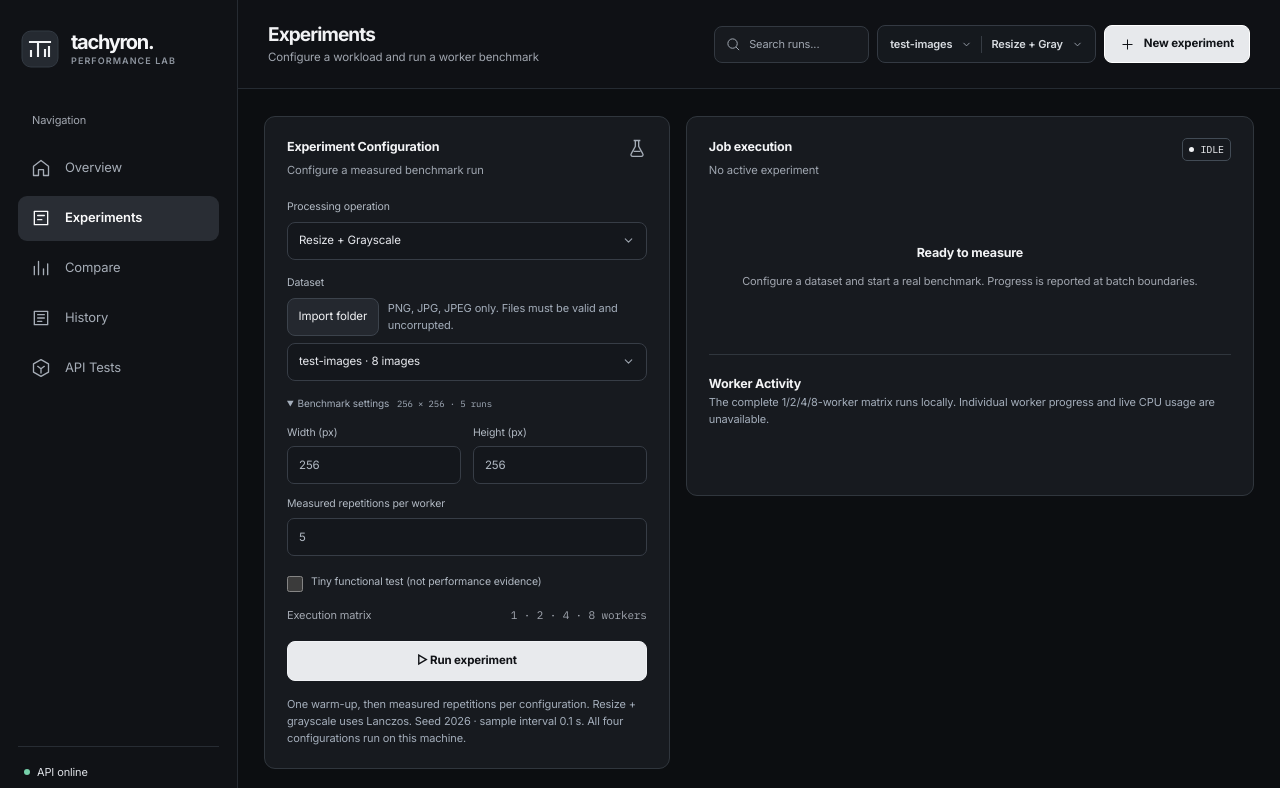
Scenario: keeps the footer minimal through offline and online transitions without stale secondary information
The width and height of the screenshot is (1280, 788).
Expected: the text "API online" is shown, left=37, top=764, right=88, bottom=780
Expected: the dropdown named "Dataset" holds "test-images", left=287, top=343, right=647, bottom=381
Click the button with aria-label "Recheck API connection".
click(56, 772)  # box left=24, top=764, right=88, bottom=780
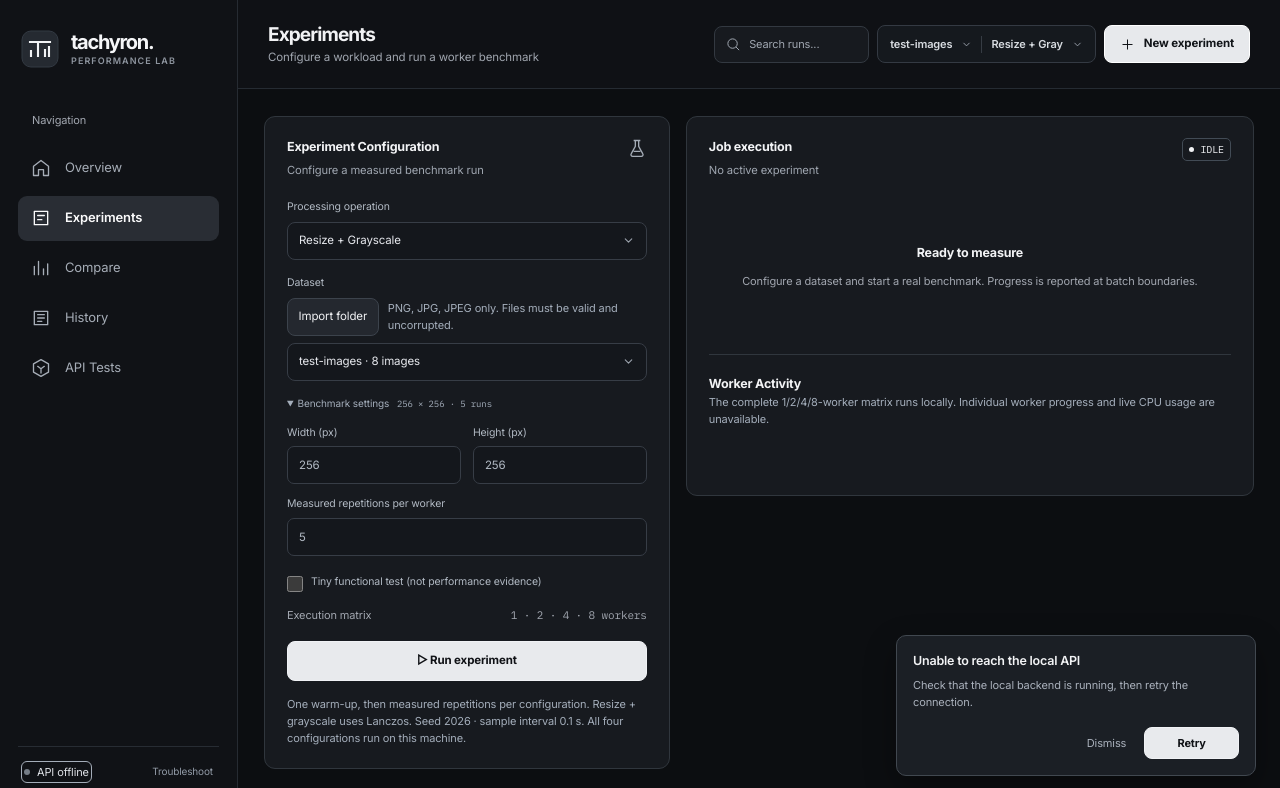
Expected: the text "API offline" is shown, left=37, top=764, right=89, bottom=780
Click the button with aria-label "Recheck API connection".
click(56, 772)  # box left=24, top=764, right=89, bottom=780
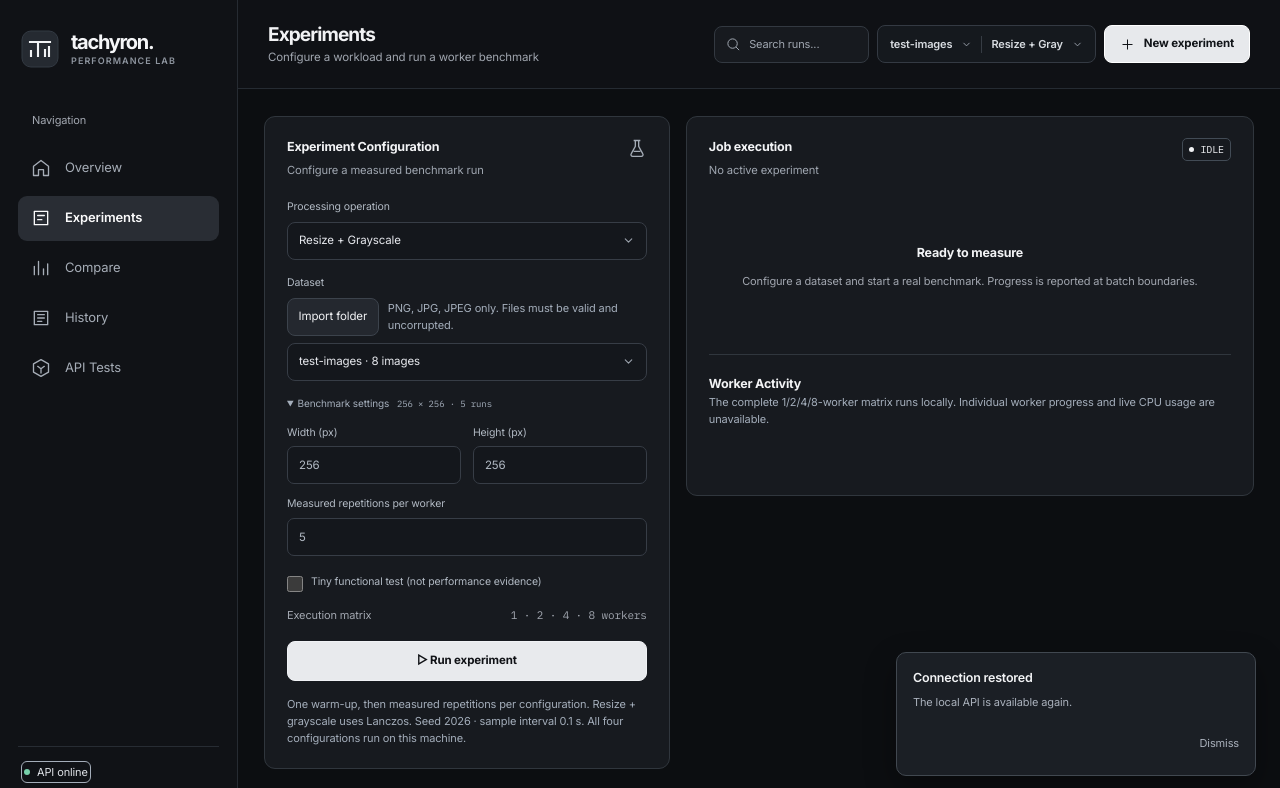
Expected: the text "API online" is shown, left=37, top=764, right=88, bottom=780
